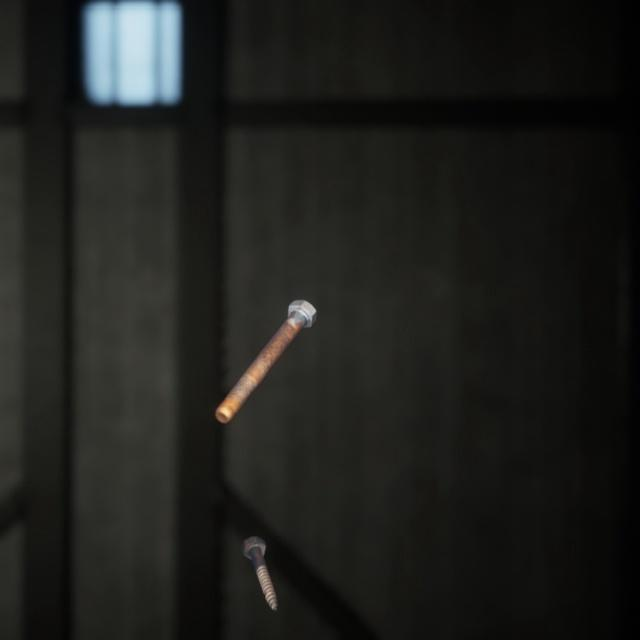bolt: (210, 276, 321, 407), (237, 509, 282, 591)
